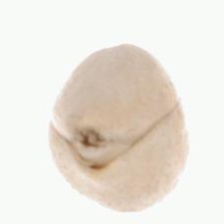L3: (65, 126, 124, 170)
L4: (48, 45, 188, 211)
